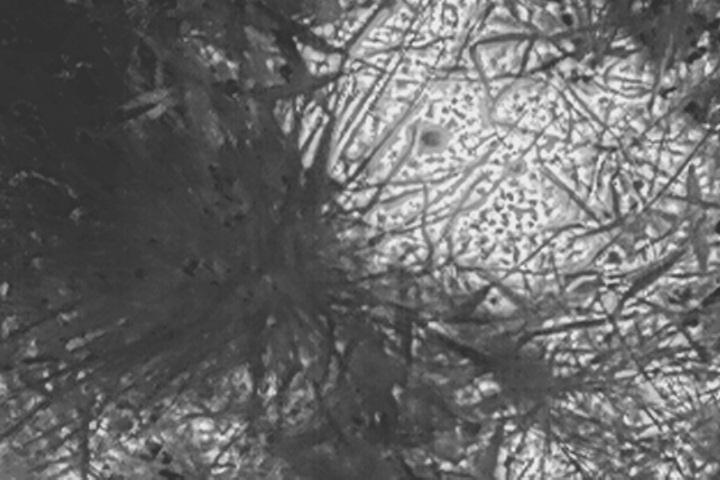landmine: (411, 122, 451, 155)
